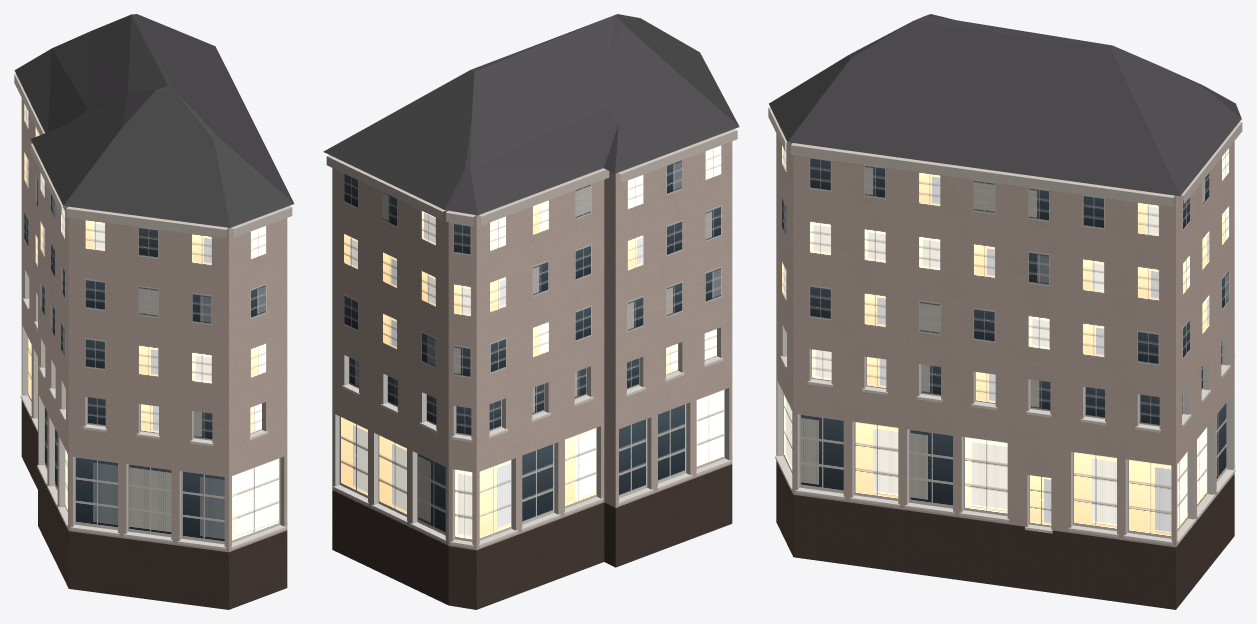
Rendered from z3a_loch_pink.glb.
3 views of the same model, side by side, from view 1: azimuth 30°, elevation 25°; view 2: azimuth 150°, elevation 25°; view 3: azimuth 270°, elevation 25° (orthographic). The views are drawn at different scales.
Visible parts, largest first — view 1: z3a_loch_pink; view 2: z3a_loch_pink; view 3: z3a_loch_pink.
Boxes of the visible parts, box(x1,y1,x2,y2) form: z3a_loch_pink: box(14, 14, 294, 609); z3a_loch_pink: box(323, 14, 739, 609); z3a_loch_pink: box(768, 14, 1242, 609).
Size of the model in its own units: 15.12 by 24.52 by 20.62.
3 materials, 3 textured.
